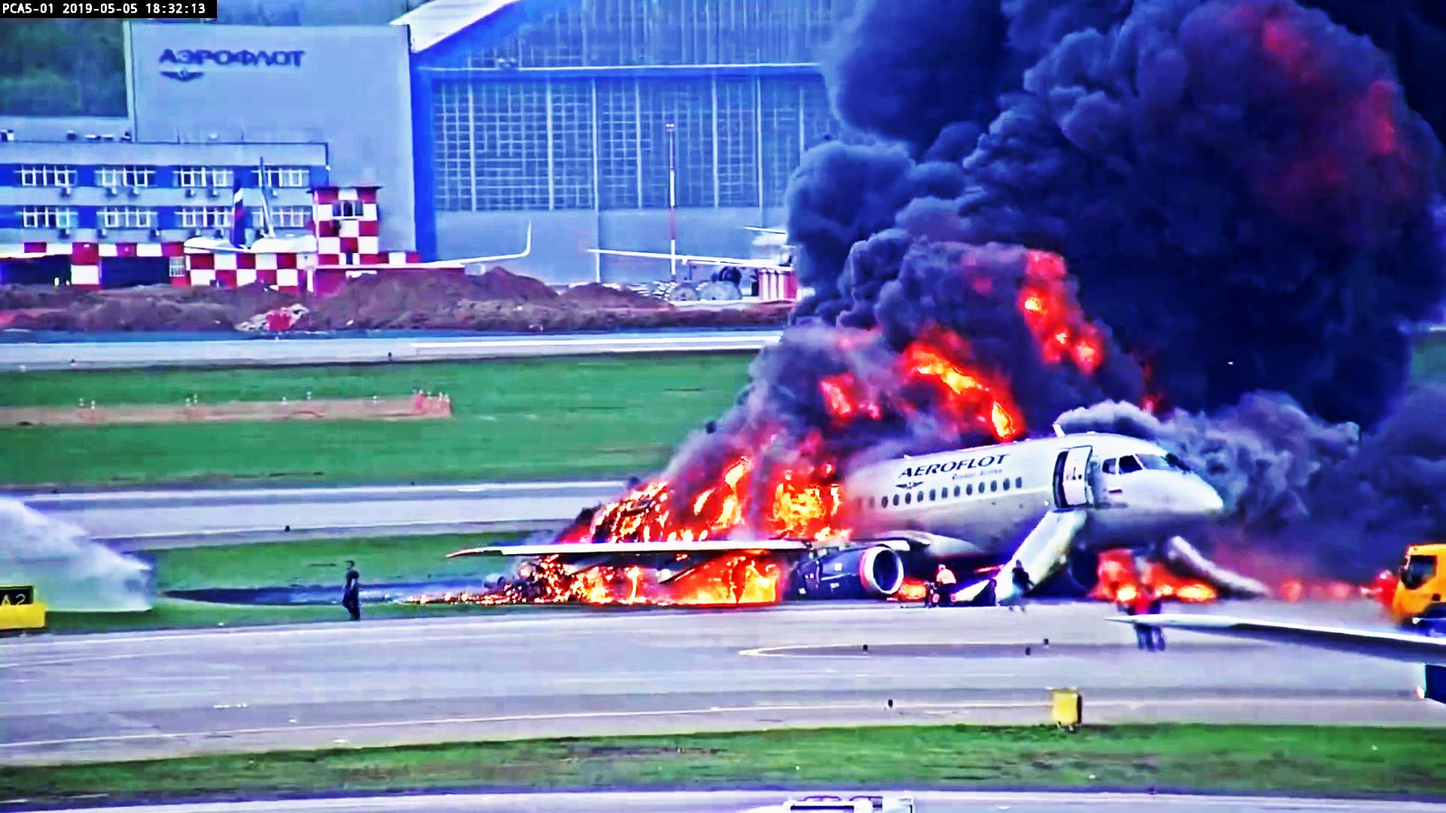fire: (772, 478, 853, 548), (688, 565, 790, 610)
smoke: (823, 6, 1446, 408)
